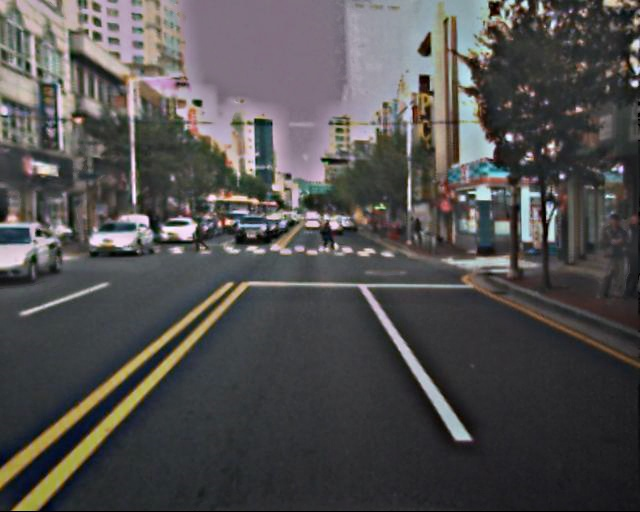person: (590, 212, 633, 300), (611, 213, 640, 300), (320, 218, 337, 258), (193, 216, 209, 254)
